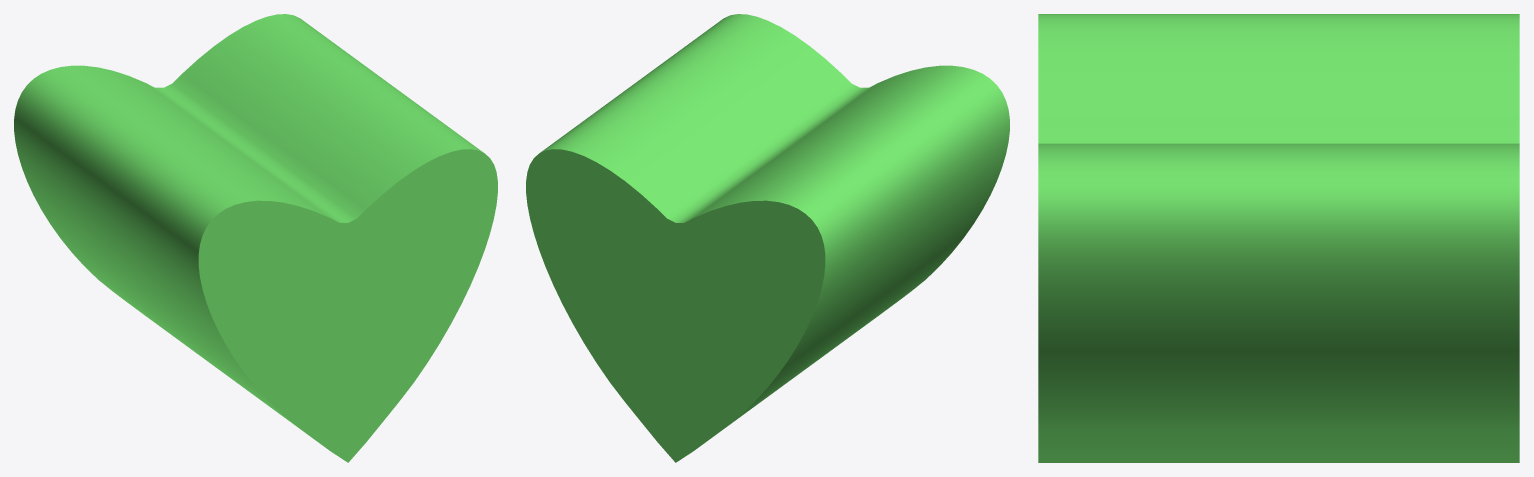
Rendered from heart.fbx.
The picture shows the model from 3 angles, left to right: view 1: azimuth 30°, elevation 25°; view 2: azimuth 150°, elevation 25°; view 3: azimuth 270°, elevation 25°; orthographic projection. The views are drawn at different scales.
Visible parts, largest first — view 1: heartfull; view 2: heartfull; view 3: heartfull.
Part boxes in pixels (x1=…): heartfull: x1=14, y1=14, x2=497, y2=462; heartfull: x1=526, y1=14, x2=1009, y2=462; heartfull: x1=1038, y1=14, x2=1519, y2=462.
Bounding box in the file's own units: 101 × 92.64 × 108.
